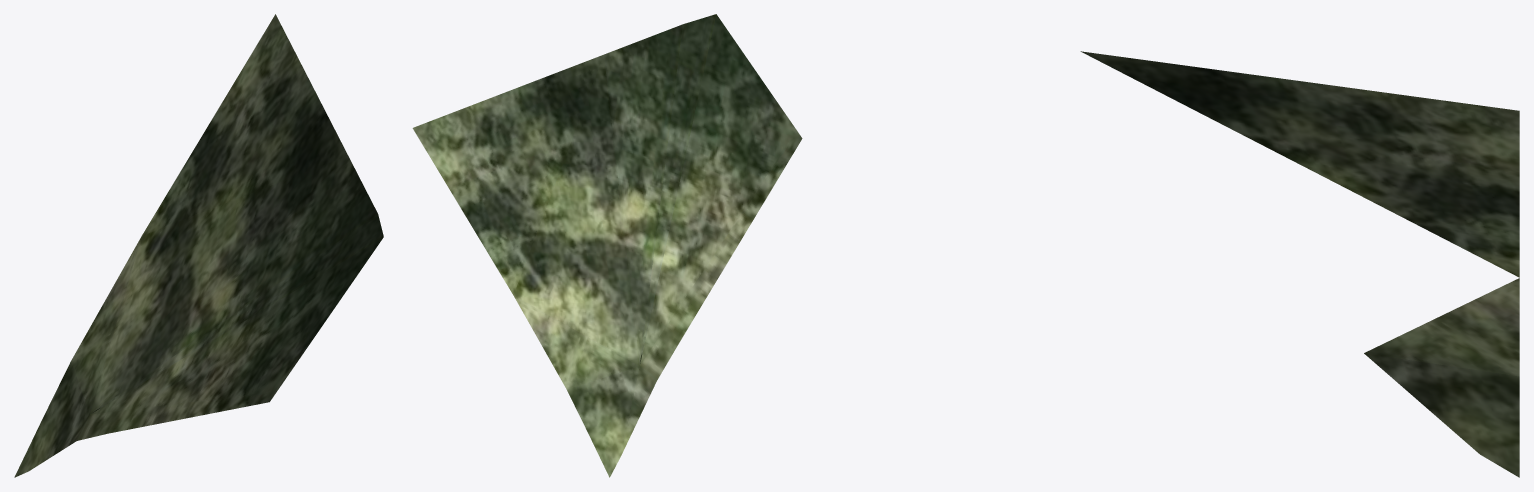
3 views of the same model, side by side, from view 1: azimuth 30°, elevation 25°; view 2: azimuth 150°, elevation 25°; view 3: azimuth 270°, elevation 25° (orthographic). The views are drawn at different scales.
Bounding box in the file's own units: 1.74 × 2.55 × 2.95.
Materials: 2 (2 with a texture image).
